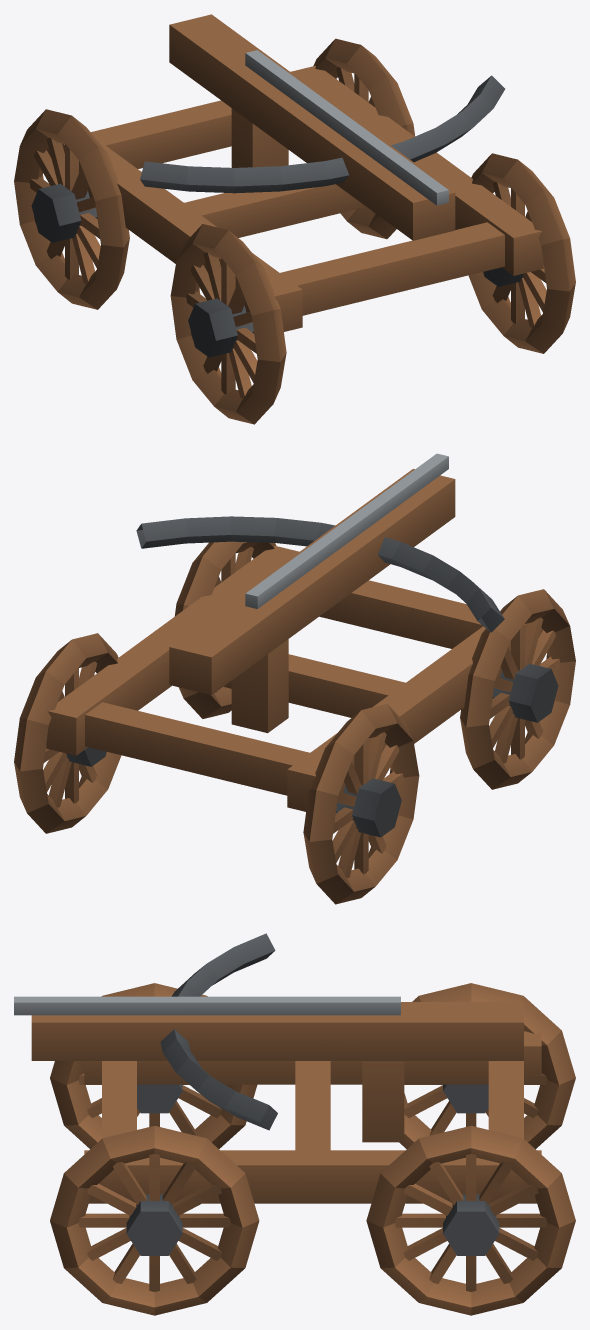
File: BALLISTA.glb
3 renders of one model, top to bottom at view 1: azimuth 30°, elevation 25°; view 2: azimuth 150°, elevation 25°; view 3: azimuth 270°, elevation 25°, orthographic.
Visible parts, largest first — view 1: Body, Wheel_0, Wheel_2, Wheel_1, Wheel_3; view 2: Body, Wheel_2, Wheel_0, Wheel_3, Wheel_1; view 3: Body, Wheel_3, Wheel_1, Wheel_2, Wheel_0.
Boxes of the visible parts, x1,y1,x2,y2 form: Body: [47, 14, 543, 331]; Wheel_0: [170, 224, 286, 424]; Wheel_2: [14, 109, 129, 309]; Wheel_1: [468, 153, 575, 353]; Wheel_3: [313, 38, 415, 239]; Body: [46, 453, 542, 811]; Wheel_2: [303, 704, 419, 904]; Wheel_0: [460, 589, 575, 789]; Wheel_3: [14, 633, 121, 833]; Wheel_1: [174, 541, 276, 718]; Body: [14, 933, 541, 1203]; Wheel_3: [366, 1125, 575, 1315]; Wheel_1: [50, 1125, 259, 1315]; Wheel_2: [399, 983, 575, 1149]; Wheel_0: [50, 983, 257, 1148].
Bounding box in the file's own units: 1.22 × 0.768 × 1.6.
1 material, 1 textured.
